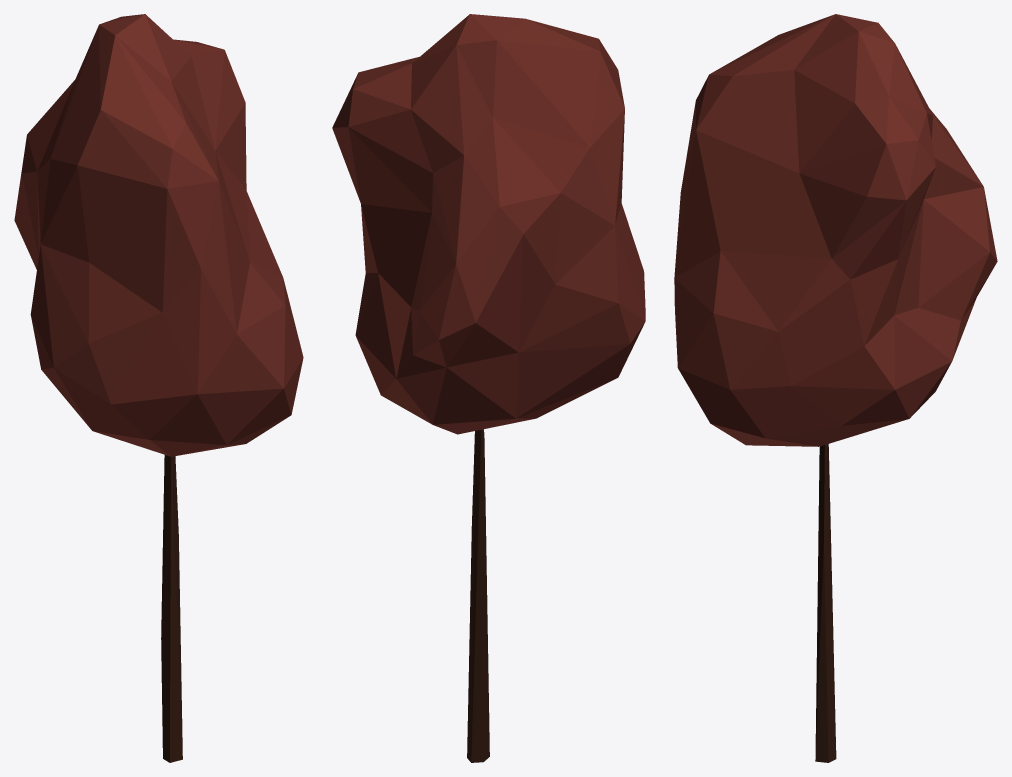
The model's file is brown_tree1.obj.
3 views of the same model, side by side, from view 1: azimuth 30°, elevation 25°; view 2: azimuth 150°, elevation 25°; view 3: azimuth 270°, elevation 25° (orthographic). The views are drawn at different scales.
Parts seen in each view (by area): view 1: Tree3_2_Cylinder.026; view 2: Tree3_2_Cylinder.026; view 3: Tree3_2_Cylinder.026.
Boxes of the visible parts, bbox=[...] form: Tree3_2_Cylinder.026: bbox=[14, 14, 303, 762]; Tree3_2_Cylinder.026: bbox=[332, 14, 645, 762]; Tree3_2_Cylinder.026: bbox=[674, 14, 997, 762].
Bounding box in the file's own units: 3.22 × 9.46 × 3.83.
